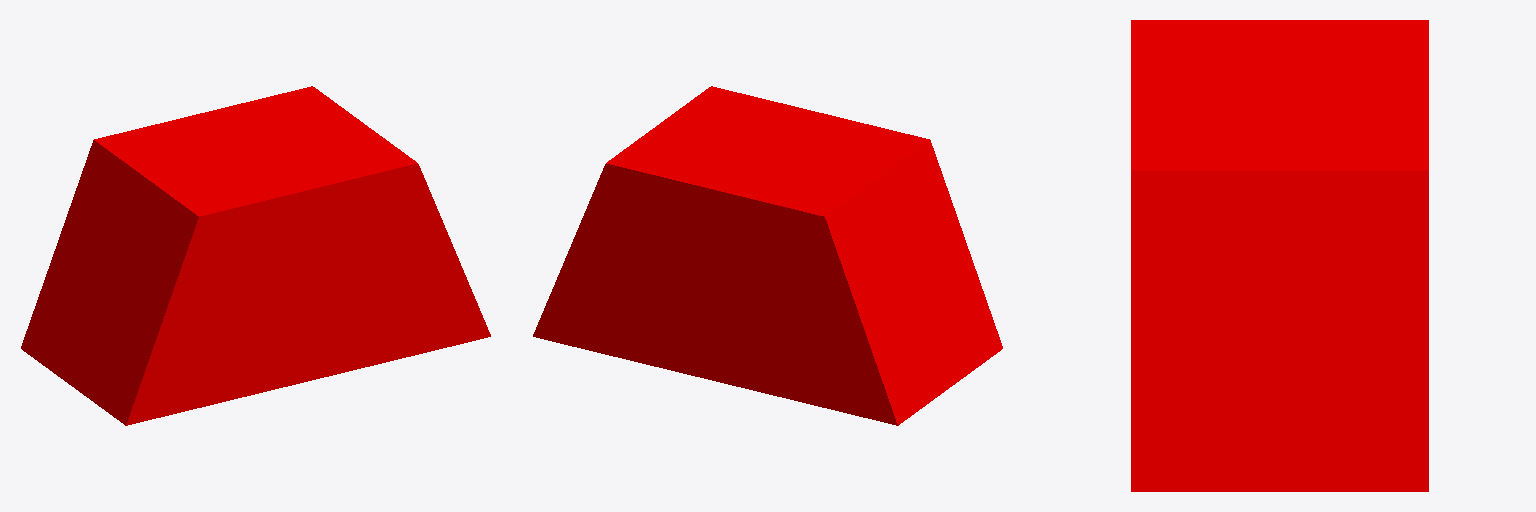
The robot description file, URDF, robot "block_t":
<?xml version="1.0"?>
<robot name="block_t">
  <link concave="no" name="block_t_base_link">
    <contact>
      <lateral_friction value="1.0"/>
      <spinning_friction value=".001"/>
    </contact>
    <visual>
      <origin rpy="0 0 0" xyz="0.0 0.0 0.0"/>
      <geometry>
        <mesh filename="package://blocks/t_block.stl"/>
      </geometry>
      <material name="blockmat">
        <color rgba="1 0 0 1"/>
      </material>
    </visual>
    <collision>
      <origin rpy="0 0 0" xyz="0.0 0.0 0.0"/>
      <geometry>
        <mesh filename="package://blocks/t_block.stl"/>
      </geometry>
    </collision>
    <inertial>
        <mass value="10"/>
        <inertia ixx="0.4" ixy="0.0" ixz="0.0" iyy="0.4" iyz="0.0" izz="0.2"/>
    </inertial>
  </link>
</robot>

--- What the picture shows (computed from the rendered views, not written in the file) ---
3 views of the same robot in one strip: view 1: azimuth 30°, elevation 25°; view 2: azimuth 150°, elevation 25°; view 3: azimuth 270°, elevation 25° (orthographic).
Model block_t with 1 links and 0 joints (none), rooted at block_t_base_link, posed all joints at 0.
Links seen in each view (by area): view 1: block_t_base_link; view 2: block_t_base_link; view 3: block_t_base_link.
Link boxes in pixels (x1=…): block_t_base_link: x1=21, y1=86, x2=490, y2=425; block_t_base_link: x1=533, y1=86, x2=1002, y2=425; block_t_base_link: x1=1131, y1=20, x2=1428, y2=491.
Bounding box of the posed robot: 0.1 × 0.05 × 0.05 m (x, y, z).
1 mesh visuals loaded from 1 distinct referenced files (1 binary STL).